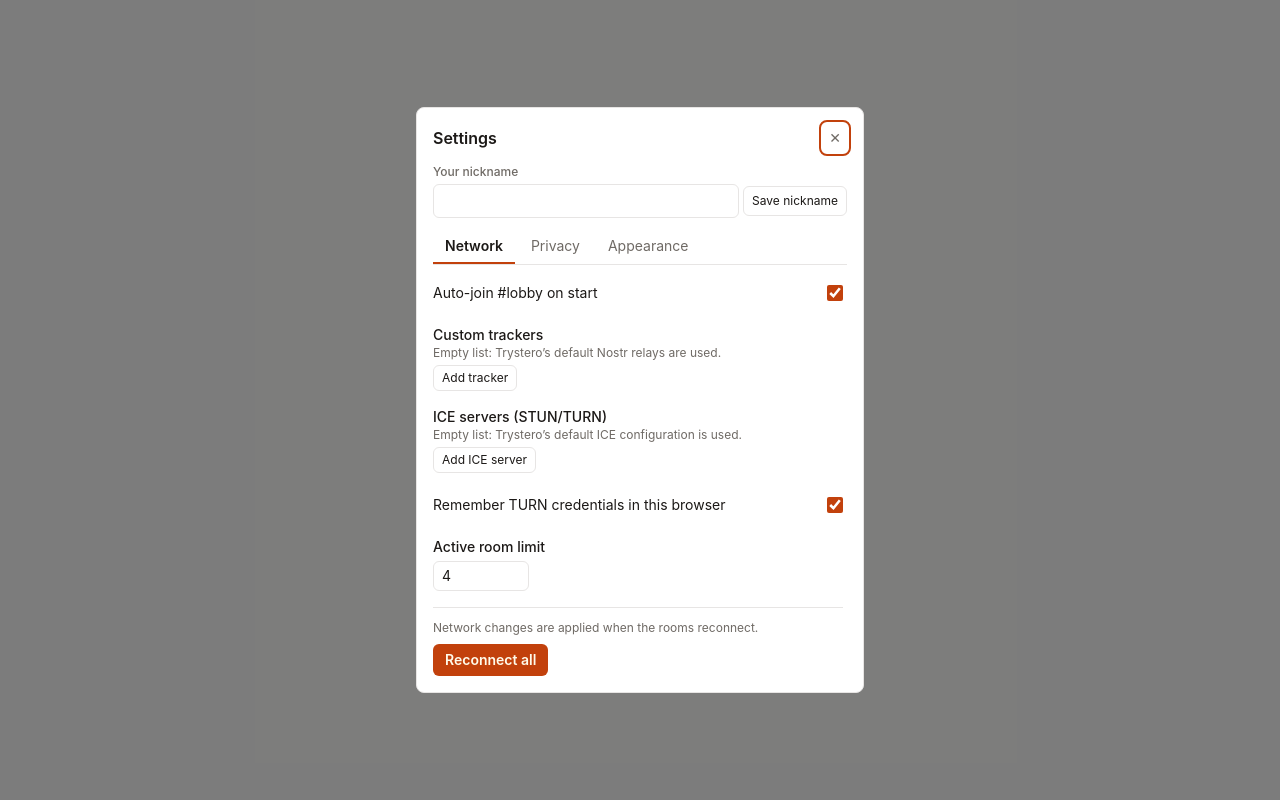
Test: Red tab (RF-07) › remembers TURN credentials by default and goes memory-only when unchecked (issue #30)
Click the checkbox labelled "Remember TURN credentials in this browser" at (835, 505), box [827,497,843,513]
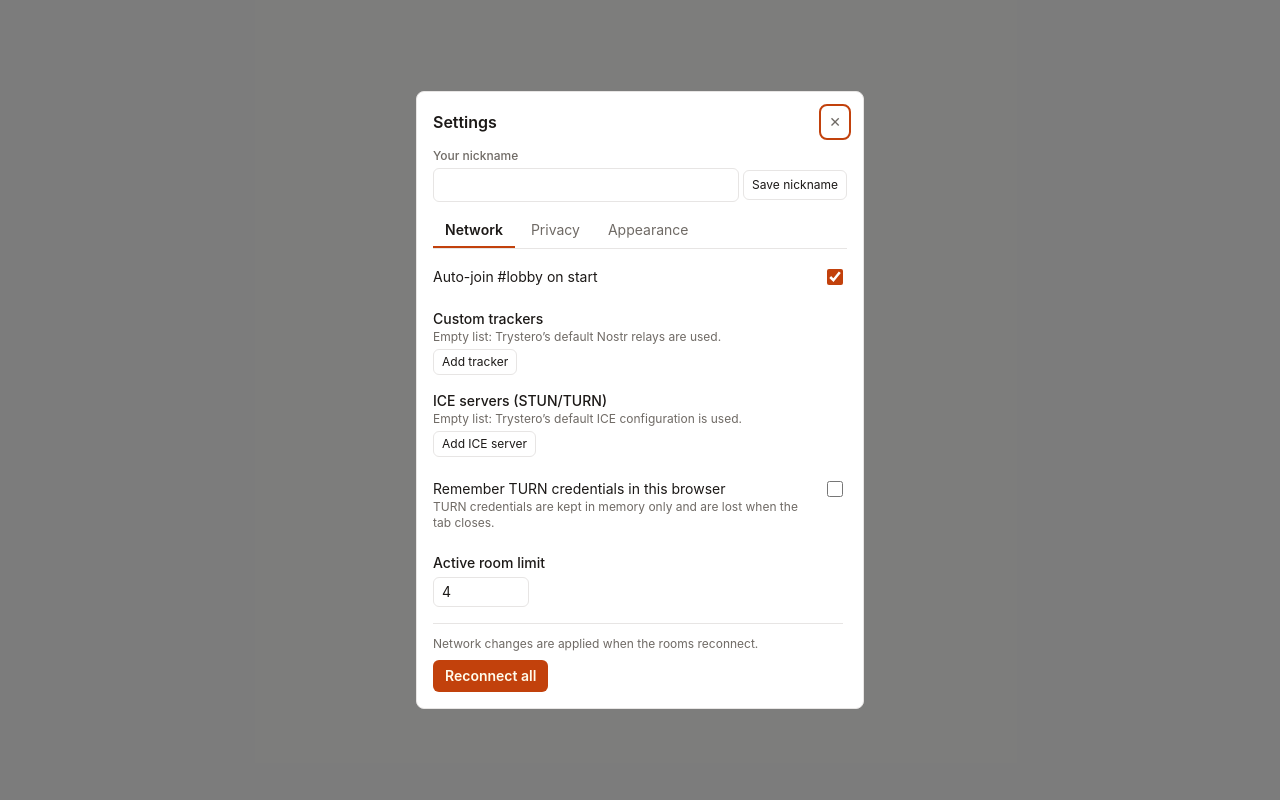
Result: the text "TURN credentials are kept in memory only and are lost when the tab closes." is shown at [433,499,815,531]
Click the checkbox labelled "Remember TURN credentials in this browser" at (835, 489), box [827,481,843,497]
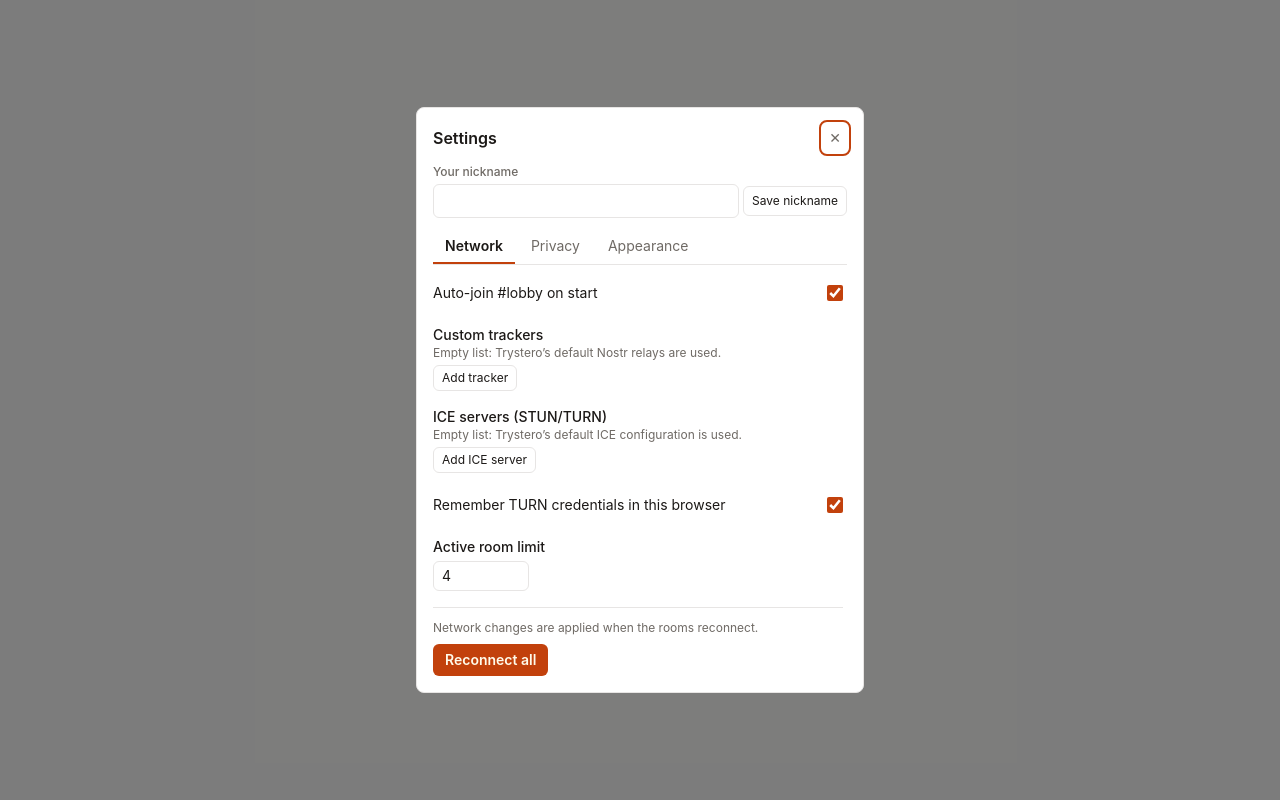
Result: the text "TURN credentials are kept in memory only and are lost when the tab closes." is gone
